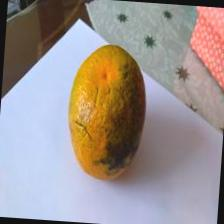Orange Rotten: (60, 36, 156, 188)
